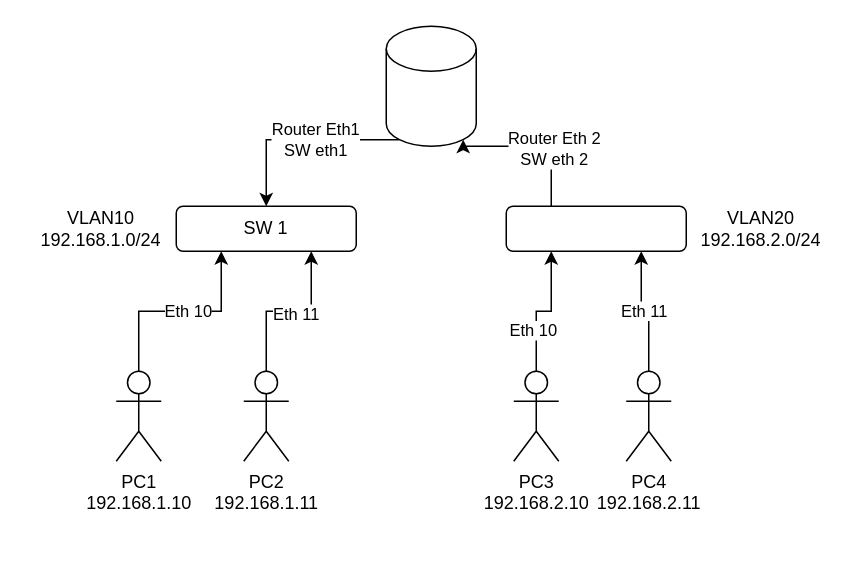
The diagram is 861 pixels wide and 563 high, and some of its shapes have lost their labels. Here are the shapes that lost their labels. From the top down, the centre of each, then its label:
At [430,85]: "Router".
At [595,228]: "SW 2".
